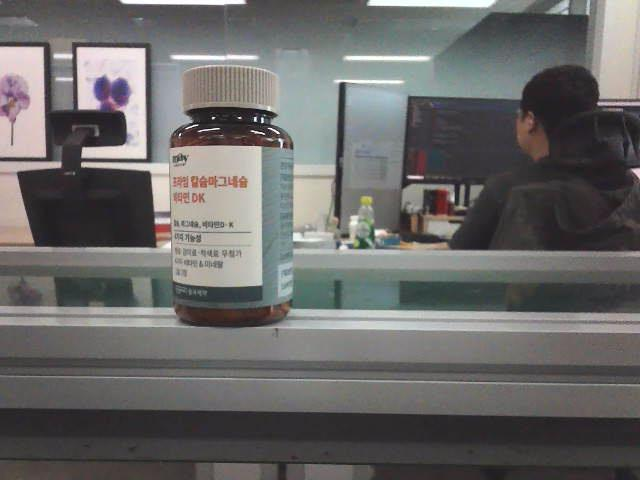labeled: (164, 59, 297, 330)
